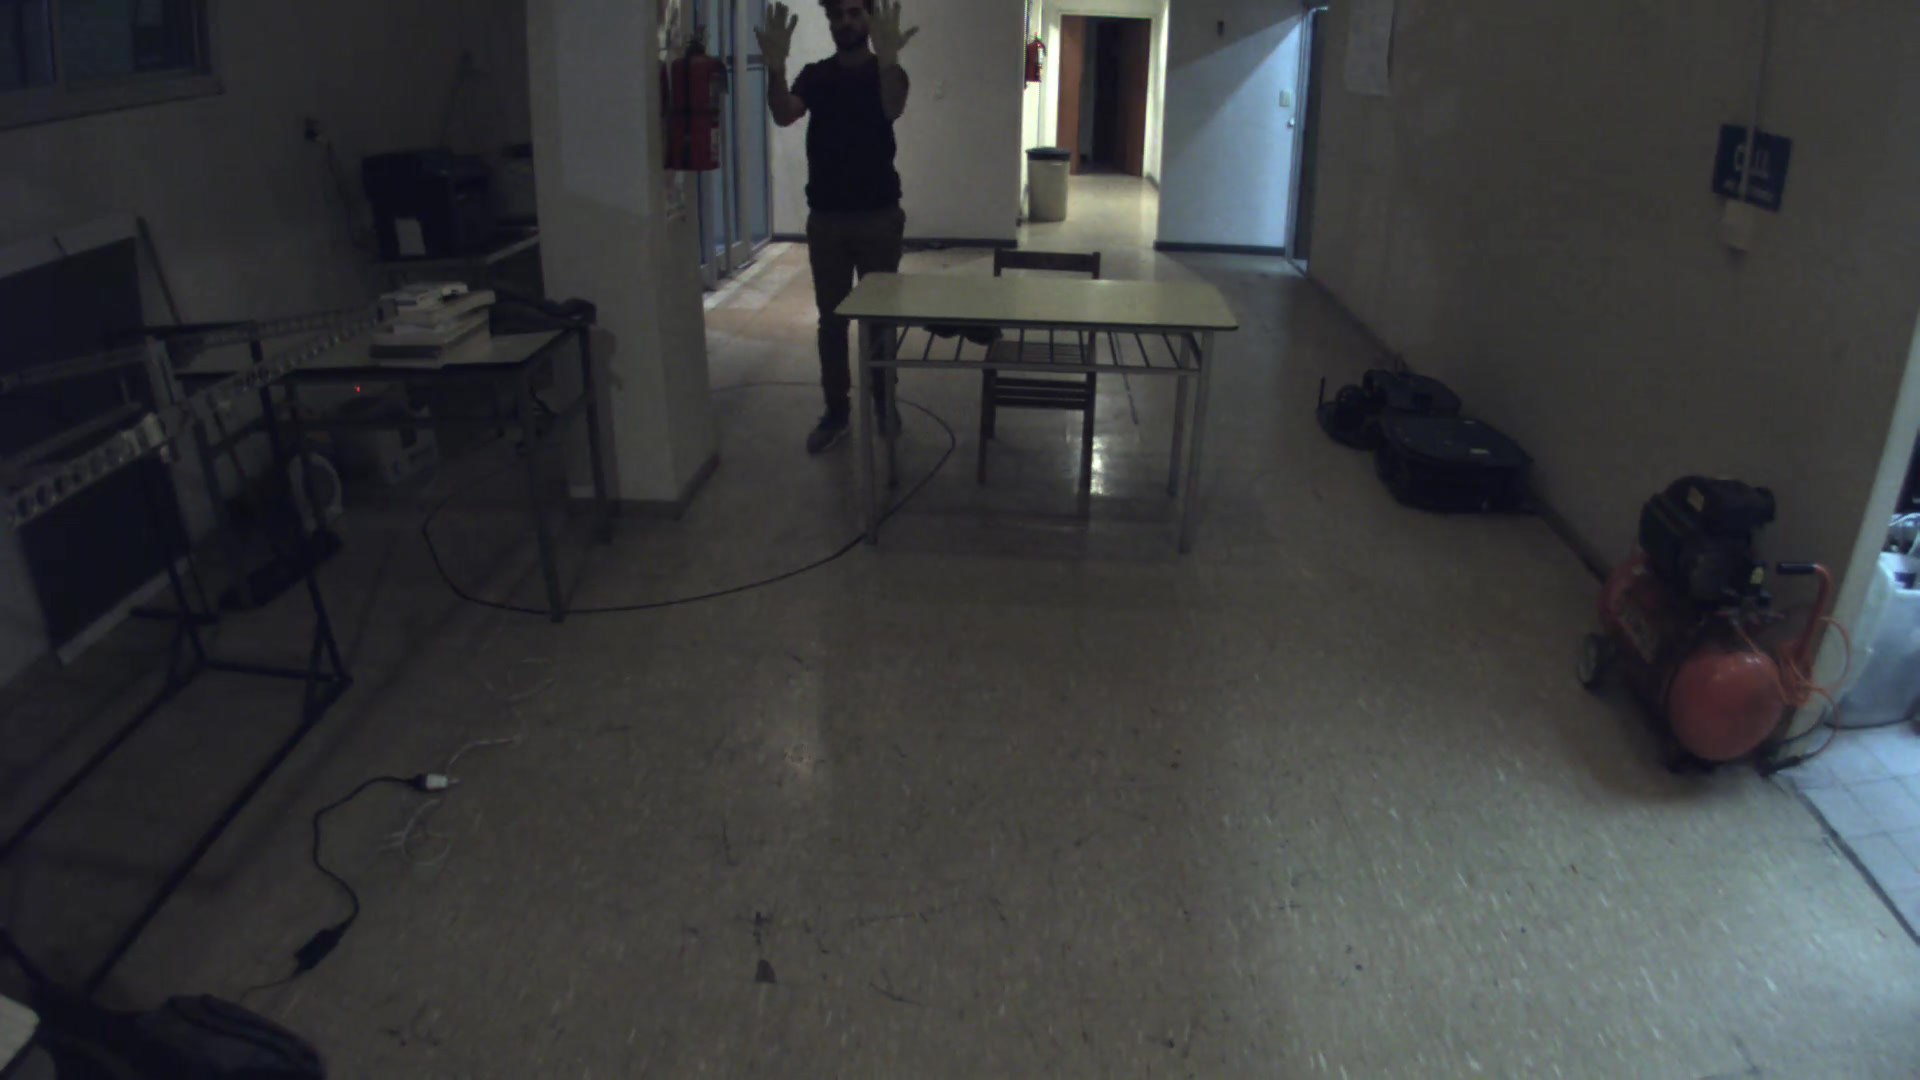hand: (746, 5, 807, 76), (858, 1, 913, 63)
